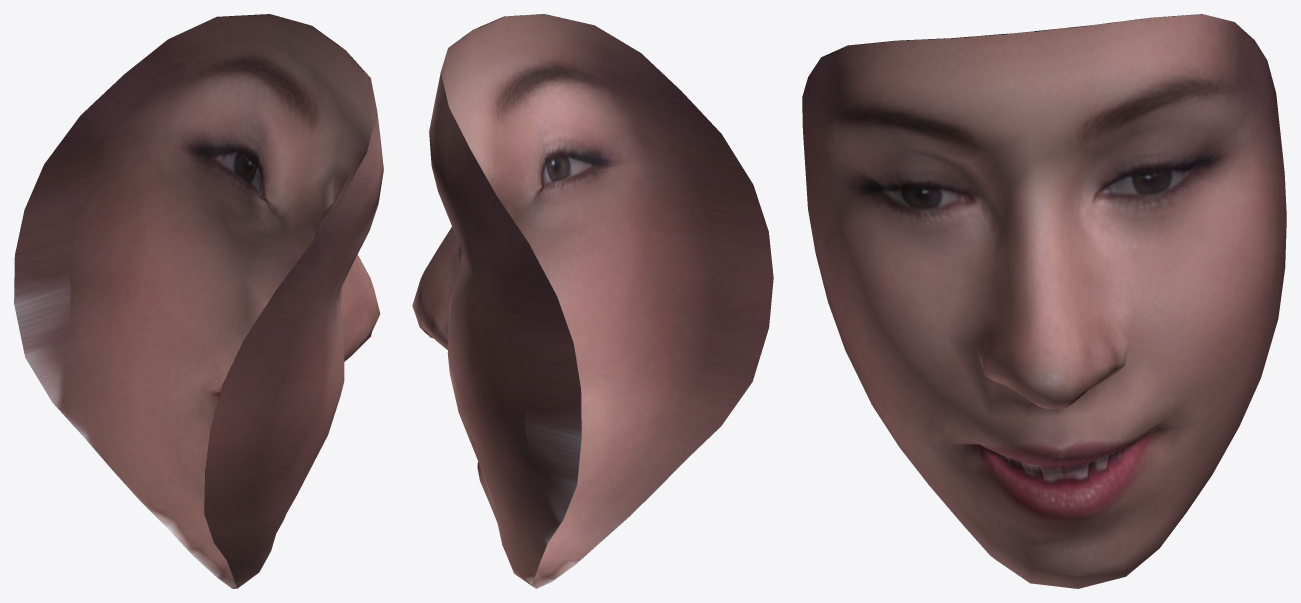
File: twitch_asmr.glb
3 views of the same model, side by side, from view 1: azimuth 30°, elevation 25°; view 2: azimuth 150°, elevation 25°; view 3: azimuth 270°, elevation 25° (orthographic). The views are drawn at different scales.
Parts seen in each view (by area): view 1: twitch_asmr; view 2: twitch_asmr; view 3: twitch_asmr.
Boxes of the visible parts, x1,y1,x2,y2 form: twitch_asmr: (14,14,383,588); twitch_asmr: (412,14,773,588); twitch_asmr: (802,14,1286,588).
Bounding box in the file's own units: 0.4365 × 0.832 × 0.5884.
Materials: 1 (1 with a texture image).
